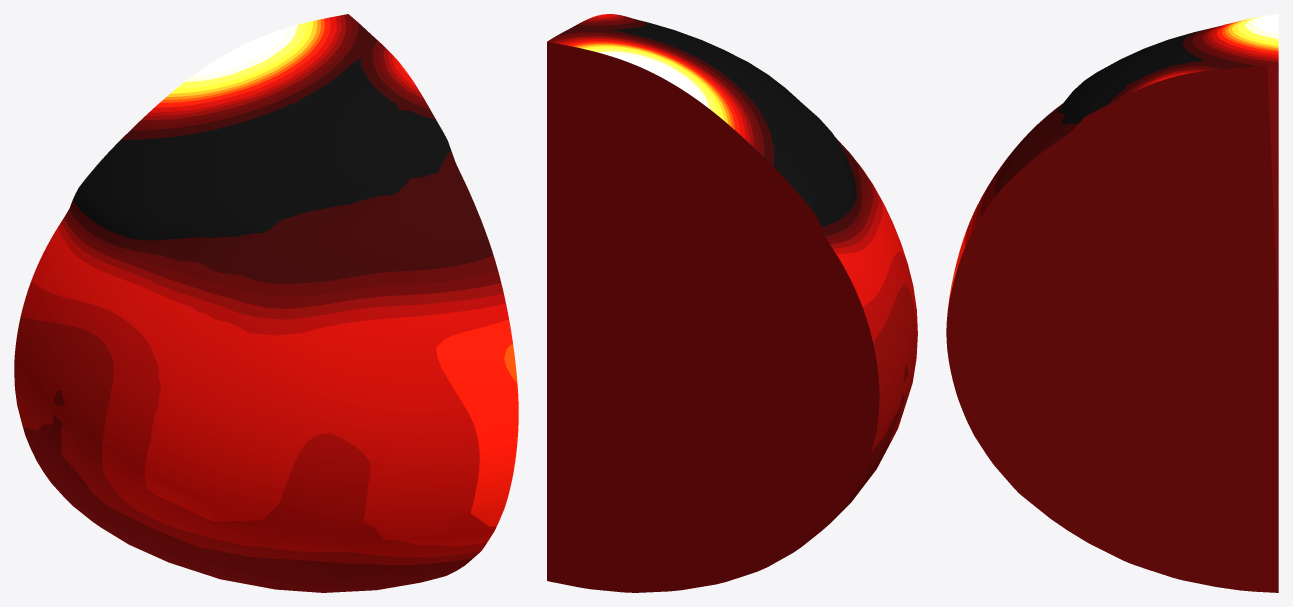
Rendered from dark_orb_bl.glb.
3 renders of one model, left to right at view 1: azimuth 30°, elevation 25°; view 2: azimuth 150°, elevation 25°; view 3: azimuth 270°, elevation 25°, orthographic. The views are drawn at different scales.
Visible parts, largest first — view 1: dark_orb.001; view 2: dark_orb.001; view 3: dark_orb.001.
Boxes of the visible parts, <box> form: dark_orb.001: <box>14,14,518,592</box>; dark_orb.001: <box>547,14,917,592</box>; dark_orb.001: <box>946,14,1278,592</box>.
Bounding box in the file's own units: 16.98 × 26.39 × 15.
